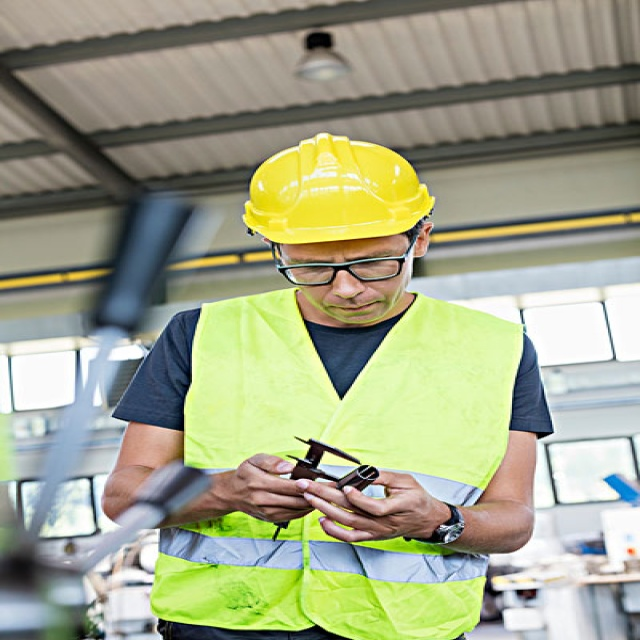Helmet: (231, 124, 448, 339)
Reflective vest: (148, 286, 528, 640)
